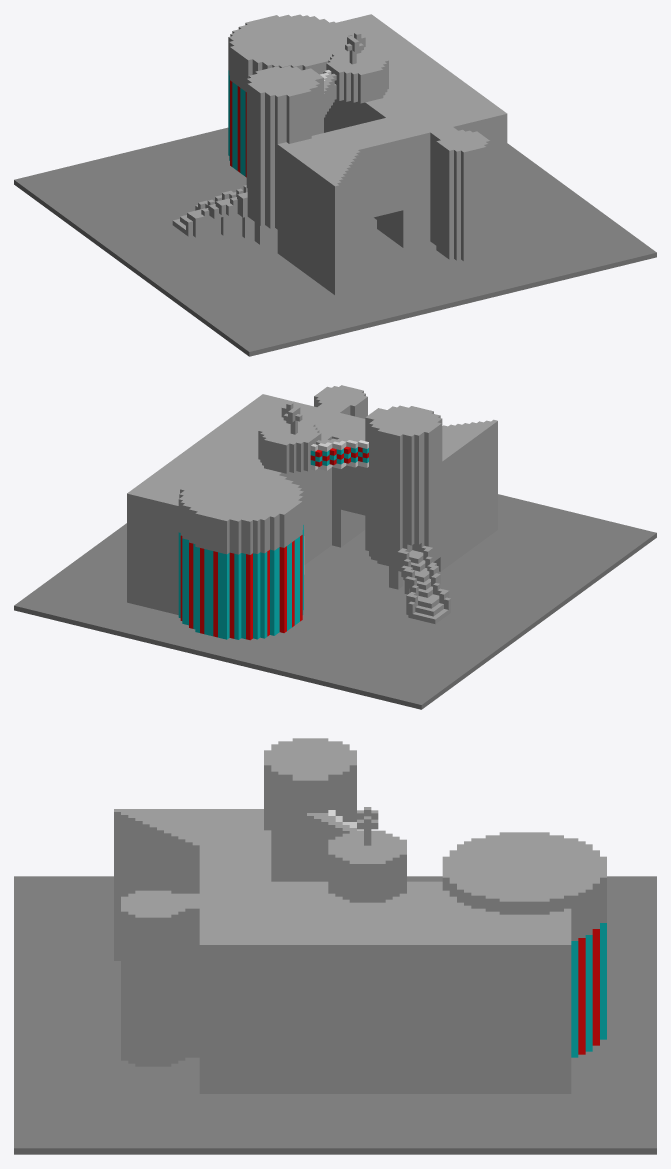
Rendered from kagakukan.glb.
The picture shows the model from 3 angles, top to bottom: view 1: azimuth 30°, elevation 25°; view 2: azimuth 150°, elevation 25°; view 3: azimuth 270°, elevation 25°; orthographic projection. The views are drawn at different scales.
Parts seen in each view (by area): view 1: Untitled; view 2: Untitled; view 3: Untitled.
Boxes of the visible parts, x1=… form: Untitled: x1=14, y1=14, x2=656, y2=356; Untitled: x1=14, y1=385, x2=656, y2=709; Untitled: x1=14, y1=738, x2=656, y2=1154.
Bounding box in the file's own units: 1.8 × 0.72 × 1.8.
Materials: 1 (1 with a texture image).
